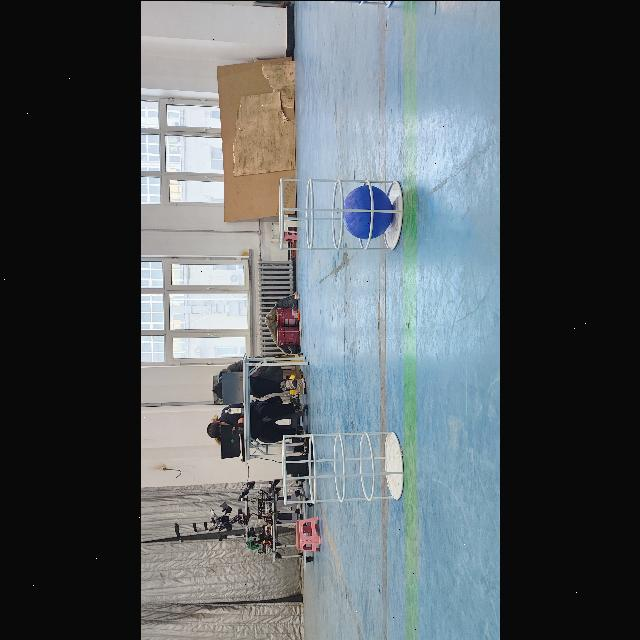B: (341, 185, 394, 239)
S: (272, 172, 410, 254), (276, 426, 408, 506)
